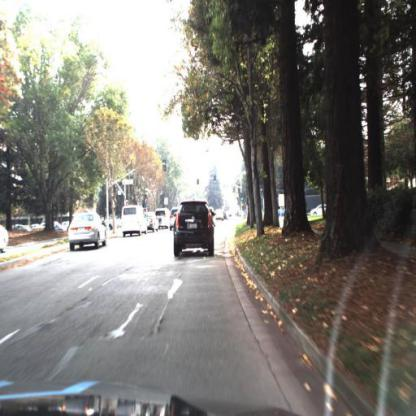car: (174, 198, 215, 261), (68, 211, 108, 248), (120, 204, 147, 236), (304, 202, 331, 219), (156, 204, 172, 231), (144, 213, 158, 236), (1, 225, 10, 256)
